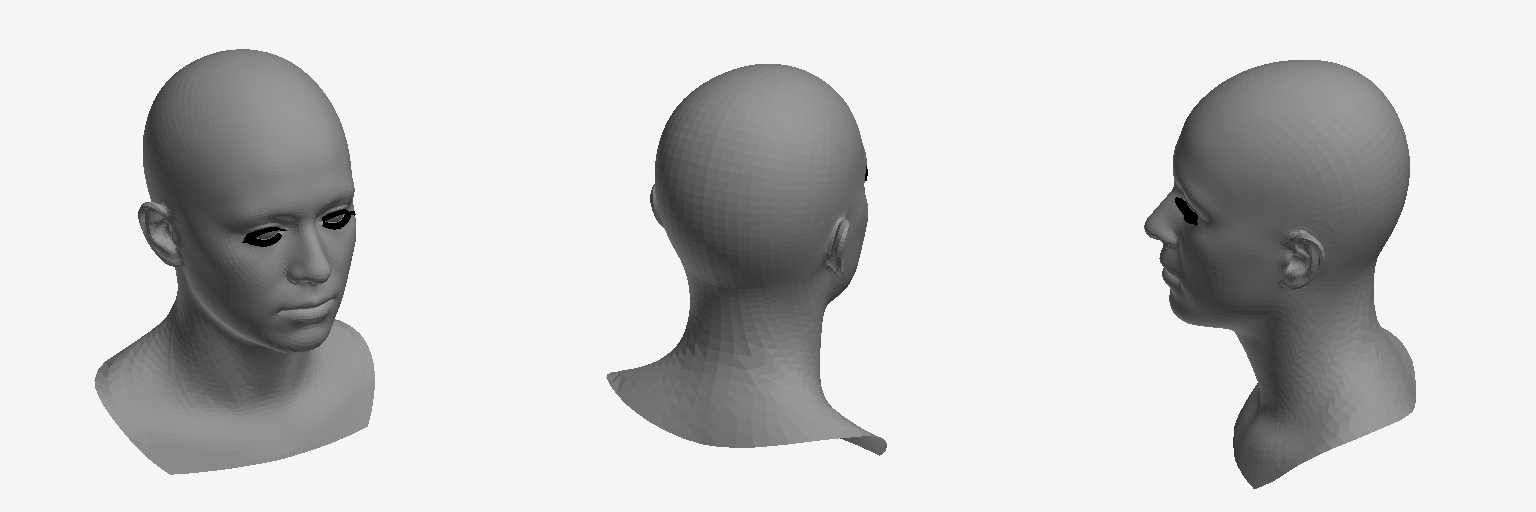
The model's file is identity075.obj.
3 views of the same model, side by side, from view 1: azimuth 30°, elevation 25°; view 2: azimuth 150°, elevation 25°; view 3: azimuth 270°, elevation 25° (orthographic).
Bounding box in the file's own units: 24.83 × 33.82 × 22.25.